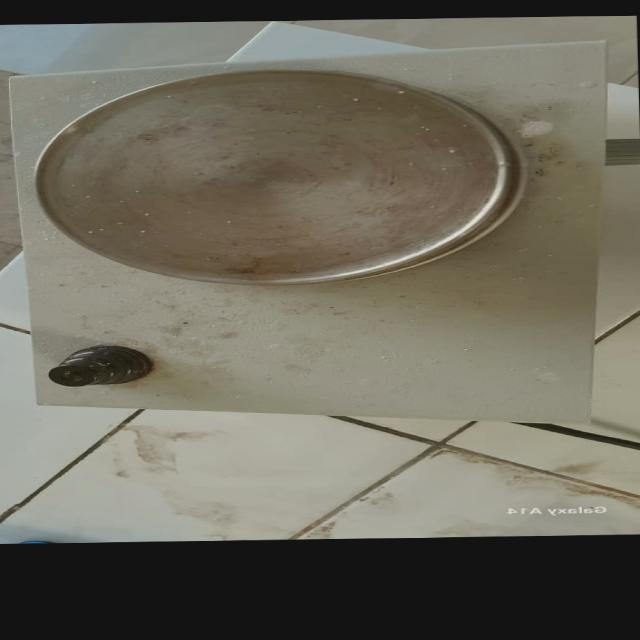Magnetic Stirrer: (0, 43, 640, 420)
